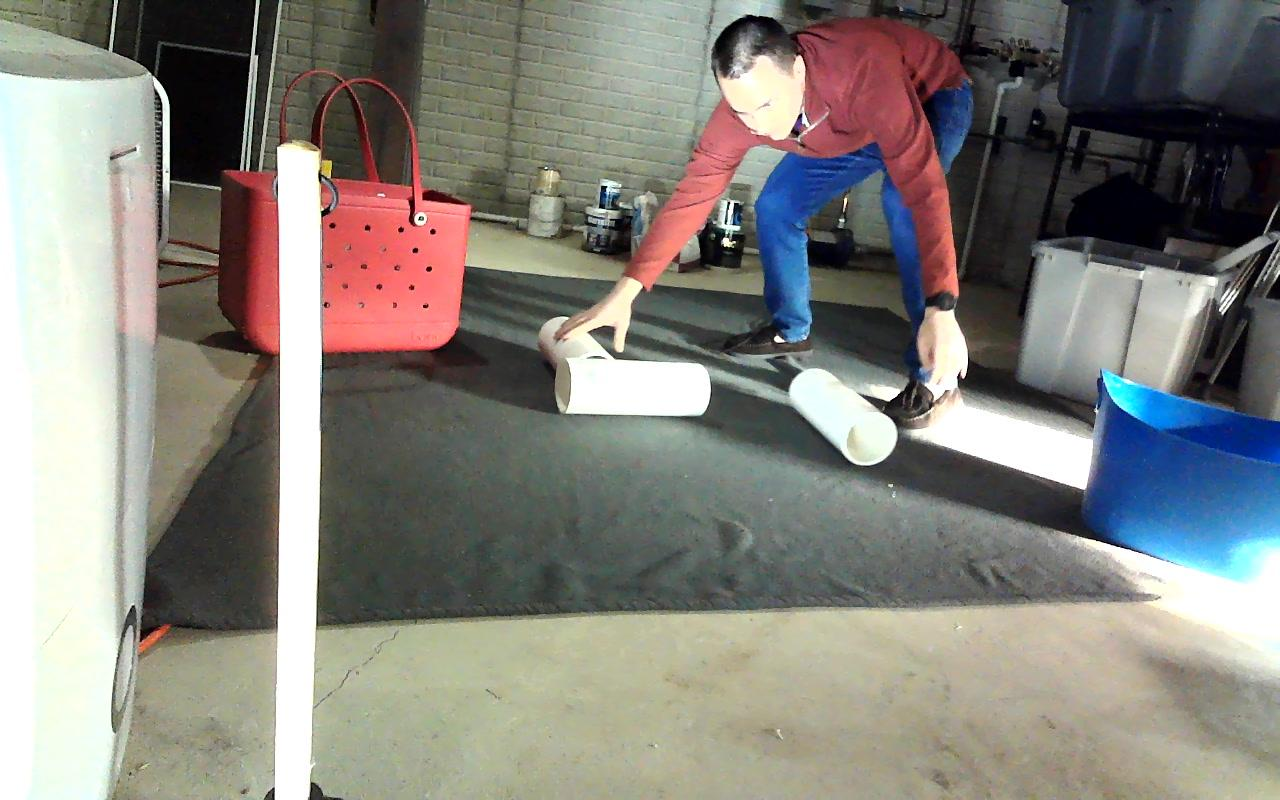coral: (789, 367, 896, 465), (553, 355, 710, 417), (539, 318, 611, 381)
